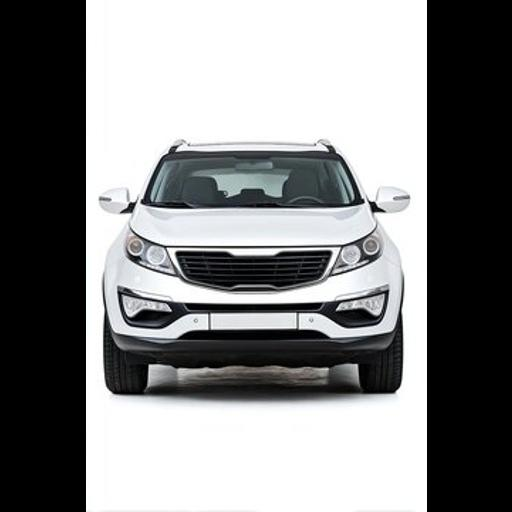suv: (99, 140, 409, 393)
